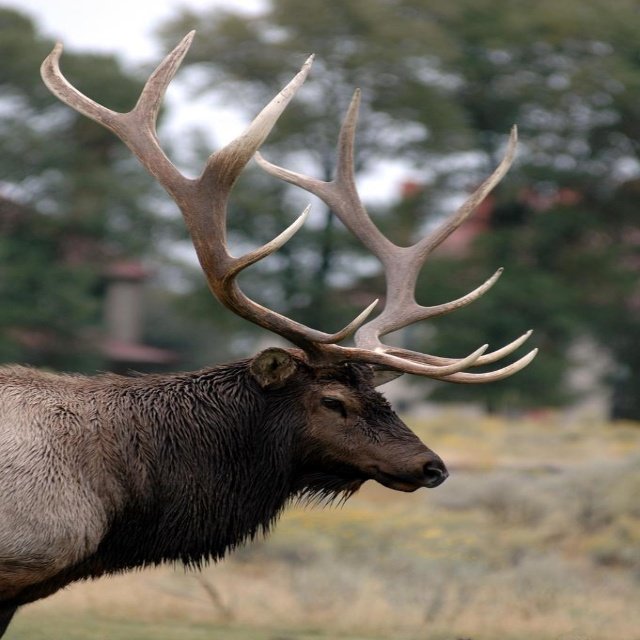Deer: (0, 30, 539, 640)
